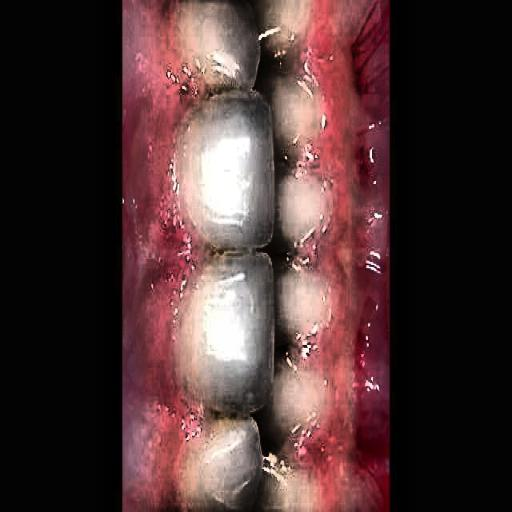Healthy: (174, 33, 370, 493)
